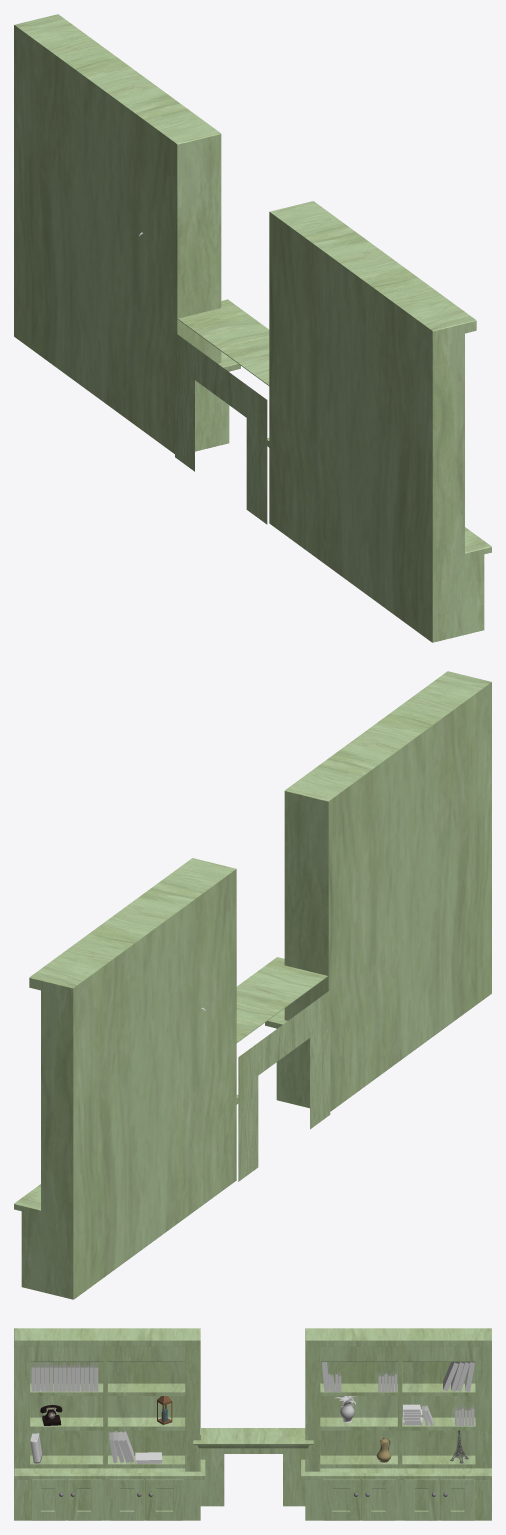
File: salotto_mobile_principale.fbx
3 renders of one model, top to bottom at view 1: azimuth 30°, elevation 25°; view 2: azimuth 150°, elevation 25°; view 3: azimuth 270°, elevation 25°, orthographic. The views are drawn at different scales.
Parts seen in each view (by area): view 1: Mobile; view 2: Mobile; view 3: Mobile, enciclopedia, libri, Romanzi, album, phone_base, pianta, lanterna, Book, teiera.
Boxes of the visible parts, x1,y1,x2,y2 form: Mobile: (14, 14, 491, 642); Mobile: (14, 671, 491, 1299); Mobile: (14, 1328, 491, 1520); enciclopedia: (31, 1362, 98, 1391); libri: (322, 1362, 474, 1425); Romanzi: (109, 1431, 162, 1463); album: (443, 1362, 474, 1391); phone_base: (40, 1405, 62, 1425); pianta: (333, 1396, 356, 1422); lanterna: (157, 1396, 172, 1424); Book: (30, 1433, 42, 1463); teiera: (376, 1437, 391, 1462).
Size of the model in its own units: 54.87 by 252 by 610.
